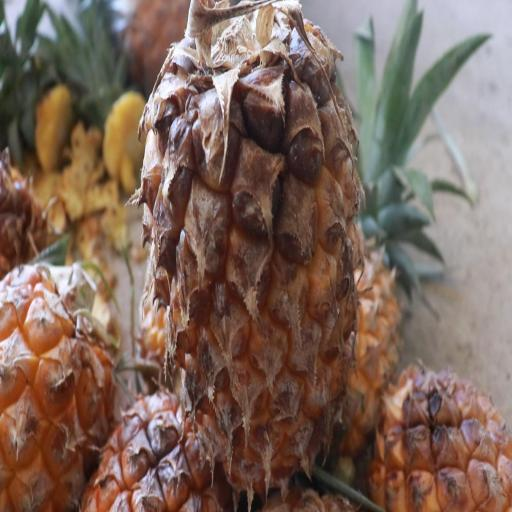Pineapple - v8 v1: (130, 0, 371, 499), (0, 236, 115, 512), (367, 344, 512, 512)
